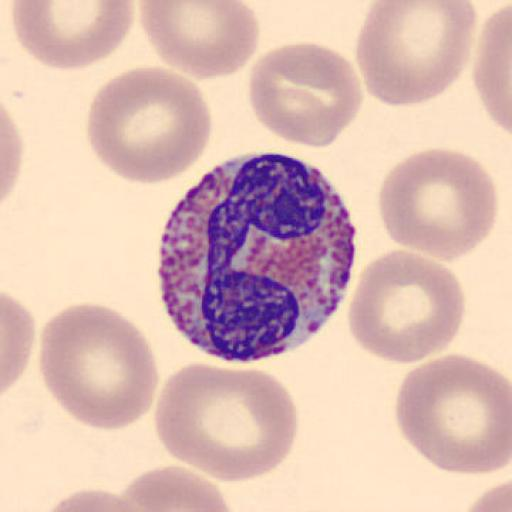RBC: (154, 360, 300, 484), (38, 300, 160, 434), (86, 64, 214, 186), (395, 352, 511, 479), (346, 247, 466, 365), (377, 146, 499, 262), (355, 0, 478, 109), (248, 40, 366, 150), (137, 0, 260, 80), (8, 0, 136, 72), (119, 464, 235, 512), (472, 2, 512, 138), (1, 290, 37, 396), (32, 486, 149, 512), (0, 101, 23, 212), (462, 481, 512, 512)
WBC: (156, 155, 358, 361)
